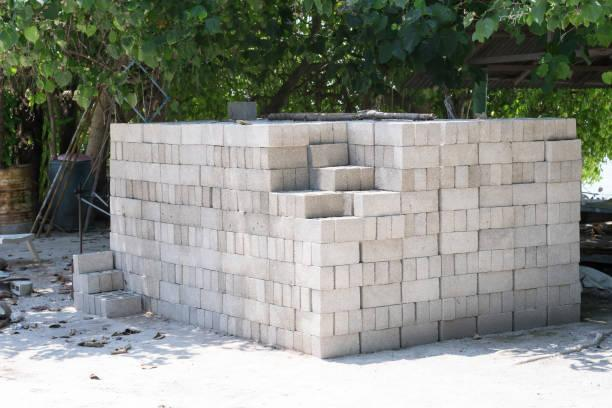Bricks: (160, 243, 221, 270), (312, 332, 360, 360), (221, 297, 270, 324), (200, 169, 264, 189), (110, 235, 160, 260), (220, 254, 270, 279), (291, 309, 335, 336), (312, 288, 360, 312), (295, 195, 346, 216), (222, 212, 271, 233), (109, 161, 161, 180), (295, 266, 334, 290), (124, 273, 160, 299), (356, 194, 402, 214), (439, 318, 476, 341), (313, 244, 360, 262), (396, 147, 438, 167), (362, 332, 400, 353), (362, 242, 406, 260), (442, 144, 479, 165), (362, 285, 402, 304), (480, 143, 514, 165), (162, 204, 199, 224), (293, 222, 334, 240), (268, 305, 296, 331), (375, 120, 404, 145), (477, 273, 515, 292), (183, 126, 222, 144), (376, 171, 411, 191), (403, 326, 438, 345), (512, 143, 545, 163), (514, 311, 550, 329), (309, 146, 347, 163), (143, 124, 178, 142), (226, 127, 268, 142), (404, 282, 441, 299), (479, 188, 512, 207), (261, 152, 309, 165), (439, 279, 480, 294), (548, 140, 582, 158), (348, 121, 372, 146), (545, 185, 585, 200), (404, 194, 439, 211), (403, 239, 437, 256), (512, 186, 546, 203), (437, 237, 478, 251), (124, 143, 151, 164), (480, 232, 513, 249), (512, 229, 547, 245), (110, 197, 141, 215), (518, 269, 549, 287), (441, 192, 478, 207), (201, 289, 223, 314), (479, 314, 511, 331), (333, 222, 363, 240), (159, 281, 181, 305), (111, 123, 142, 140), (315, 171, 344, 189), (178, 146, 205, 165), (270, 262, 294, 283), (549, 309, 581, 324), (179, 286, 201, 307), (548, 227, 578, 242), (159, 304, 187, 320), (548, 267, 580, 281), (548, 244, 569, 264), (271, 218, 292, 237), (347, 310, 363, 334), (156, 222, 175, 242), (200, 210, 221, 228), (249, 279, 264, 302), (163, 164, 180, 183), (442, 125, 457, 146), (363, 219, 376, 243), (211, 270, 225, 292), (502, 249, 516, 271), (180, 168, 199, 184), (237, 192, 252, 212), (466, 210, 479, 233), (426, 126, 440, 147), (222, 188, 236, 209), (188, 184, 202, 205), (144, 202, 160, 220), (375, 262, 387, 286), (335, 310, 347, 334), (362, 264, 375, 286), (405, 259, 418, 281), (377, 307, 390, 329), (390, 305, 403, 327), (333, 123, 348, 142), (268, 126, 282, 146), (426, 215, 440, 235), (294, 125, 306, 148), (403, 125, 415, 148), (281, 284, 293, 307), (480, 250, 492, 273), (492, 249, 504, 272), (267, 170, 280, 191), (499, 163, 512, 184), (390, 261, 403, 282), (441, 255, 454, 276), (296, 334, 311, 352), (430, 302, 444, 321), (392, 216, 404, 238), (336, 267, 348, 289), (183, 264, 195, 286), (536, 244, 548, 266), (282, 169, 295, 189), (378, 218, 391, 238), (235, 278, 248, 298), (277, 329, 290, 349), (523, 204, 536, 224), (430, 256, 441, 279), (321, 123, 333, 144), (427, 168, 439, 189), (454, 252, 466, 273), (262, 324, 275, 343), (468, 167, 479, 189), (490, 207, 501, 229), (553, 119, 565, 139), (358, 172, 373, 188), (440, 167, 452, 187), (536, 205, 548, 225), (419, 257, 429, 281), (468, 251, 480, 271), (416, 303, 428, 323), (295, 170, 309, 187), (344, 170, 358, 187), (442, 214, 456, 231), (477, 166, 490, 184), (569, 201, 582, 219), (362, 311, 375, 329), (276, 194, 287, 215), (349, 264, 360, 285), (502, 207, 513, 228), (559, 288, 580, 299), (308, 125, 320, 144), (454, 168, 466, 187), (412, 170, 425, 187), (148, 261, 161, 278), (501, 122, 511, 144), (545, 160, 555, 182), (567, 159, 578, 179), (163, 263, 174, 283), (514, 205, 524, 227), (405, 302, 415, 324), (524, 118, 533, 142), (513, 291, 525, 309), (536, 288, 548, 306), (457, 123, 467, 144), (514, 119, 524, 140), (258, 236, 268, 257), (480, 208, 490, 229), (251, 323, 262, 342), (202, 310, 213, 329), (456, 298, 467, 317), (468, 120, 477, 143), (545, 118, 555, 138), (559, 203, 569, 223), (516, 248, 526, 268), (479, 294, 489, 314), (259, 192, 268, 214), (277, 238, 286, 260), (211, 228, 220, 250), (456, 211, 465, 233), (526, 247, 535, 269), (445, 298, 454, 320), (252, 149, 262, 168), (571, 245, 581, 264), (489, 293, 499, 312), (526, 288, 536, 307), (491, 121, 500, 142), (179, 184, 188, 205), (294, 242, 303, 263), (264, 282, 273, 303), (301, 290, 310, 311), (469, 296, 478, 317), (201, 191, 212, 208), (113, 216, 124, 233), (242, 322, 253, 339), (284, 240, 292, 263), (292, 287, 300, 310), (521, 166, 533, 181), (558, 162, 567, 182), (414, 214, 423, 234), (267, 238, 276, 258), (126, 218, 136, 236), (225, 276, 234, 296), (188, 307, 198, 325), (218, 314, 227, 334), (547, 288, 559, 303), (416, 125, 424, 147), (221, 148, 229, 170), (286, 195, 294, 217), (548, 203, 559, 219), (158, 143, 166, 164), (269, 193, 277, 214), (304, 243, 312, 264), (175, 264, 183, 285), (194, 268, 202, 289), (227, 318, 236, 336), (212, 189, 220, 209), (133, 255, 141, 275), (171, 144, 178, 166), (246, 233, 253, 255), (533, 119, 541, 138), (366, 147, 374, 166), (405, 216, 413, 235), (190, 227, 198, 246), (385, 149, 392, 170), (230, 148, 237, 169), (252, 236, 259, 257), (182, 225, 189, 246), (566, 119, 574, 137), (212, 313, 220, 331), (506, 292, 514, 310), (122, 256, 132, 270), (203, 270, 210, 290), (235, 318, 242, 338), (491, 163, 499, 180), (512, 163, 520, 180), (538, 164, 546, 181), (148, 184, 156, 201), (118, 181, 127, 196), (480, 122, 487, 141), (374, 147, 381, 166), (206, 147, 213, 166), (251, 193, 258, 212), (220, 232, 227, 251), (198, 229, 205, 248), (196, 308, 203, 327), (227, 233, 233, 255), (237, 149, 244, 167), (235, 236, 242, 254), (205, 229, 211, 250), (214, 147, 220, 167), (274, 285, 280, 305), (142, 182, 148, 201), (149, 222, 155, 241), (164, 144, 170, 162), (173, 185, 179, 203), (175, 226, 181, 244), (245, 148, 250, 169), (153, 145, 159, 162), (128, 181, 134, 198), (162, 185, 168, 202), (142, 258, 148, 275), (109, 143, 116, 157), (116, 142, 122, 158), (285, 127, 290, 145), (350, 148, 356, 163), (359, 147, 364, 165), (143, 221, 148, 239), (135, 183, 141, 197), (157, 185, 162, 201), (116, 254, 121, 270), (110, 181, 116, 194), (169, 185, 173, 204), (137, 218, 141, 236)
